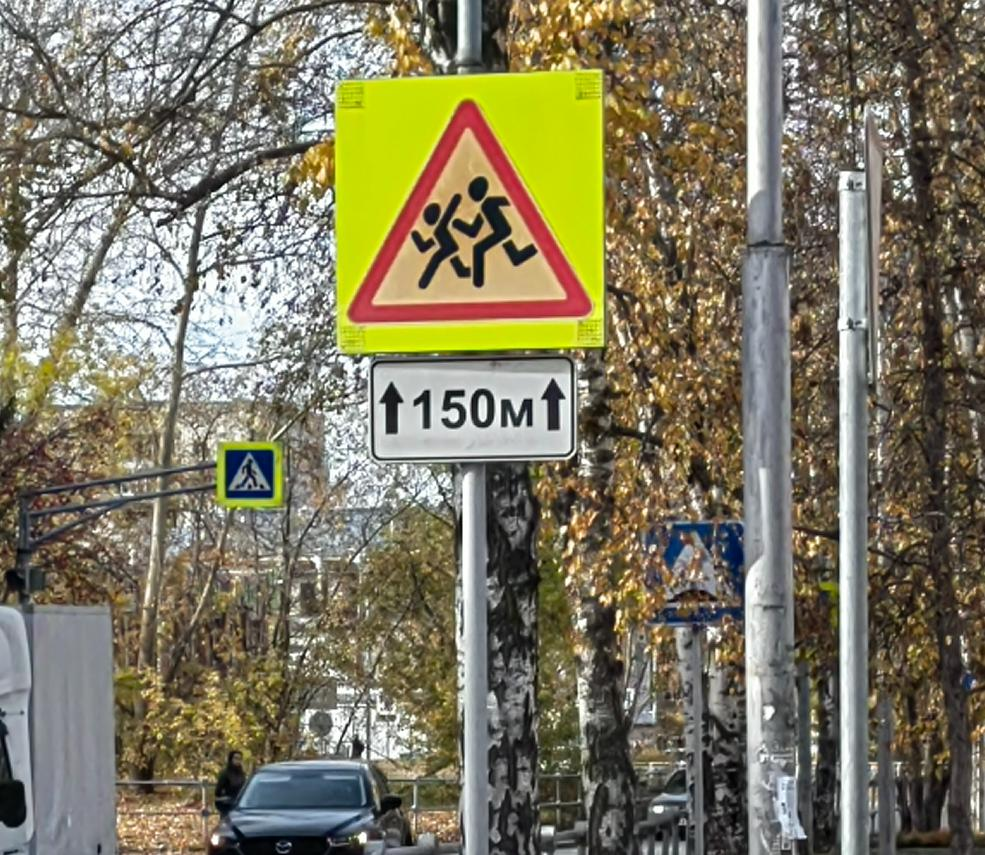obstructed_road_sign: (642, 520, 746, 624)
road_sign: (337, 70, 603, 351), (372, 358, 573, 455), (217, 443, 283, 507)
